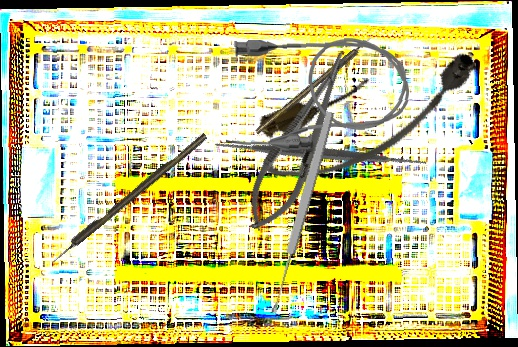Cannula: (248, 37, 495, 195), (221, 32, 412, 154)
Hook Surgical: (48, 132, 209, 265), (254, 35, 375, 135)
Needle Holder: (234, 43, 366, 241)
Spatula Surgical: (208, 41, 434, 267)
Surgical Spoon: (266, 110, 337, 315)
